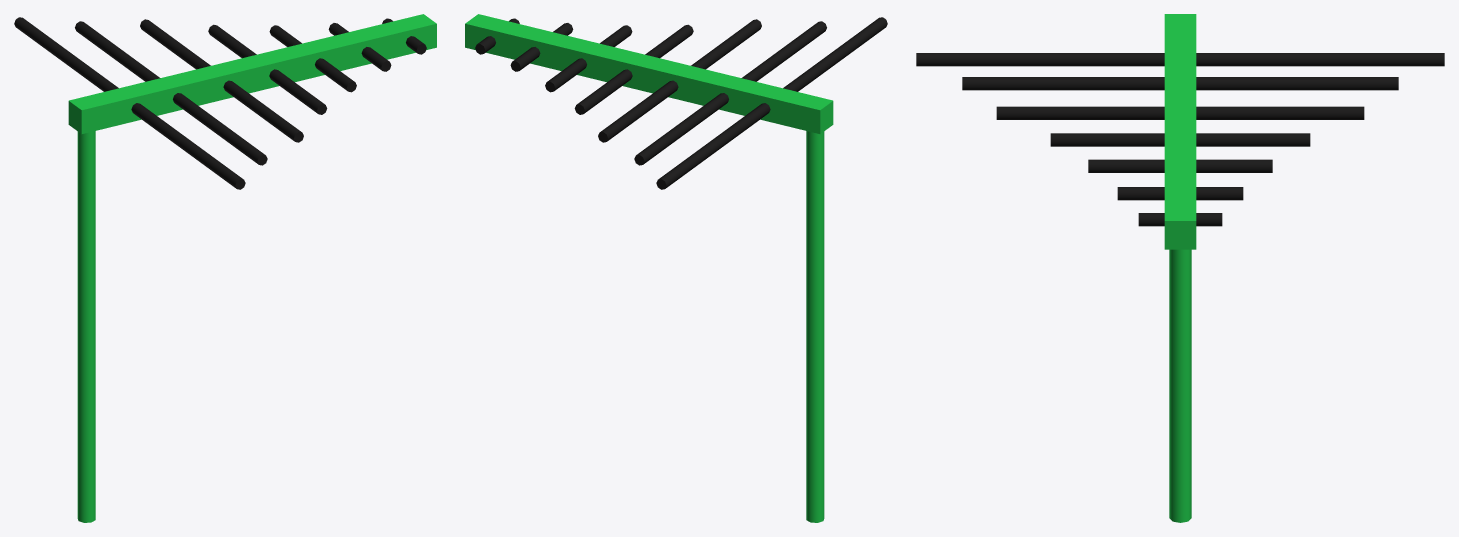
Rendered from Antenna.fbx.
The picture shows the model from 3 angles, left to right: view 1: azimuth 30°, elevation 25°; view 2: azimuth 150°, elevation 25°; view 3: azimuth 270°, elevation 25°; orthographic projection. The views are drawn at different scales.
Visible parts, largest first — view 1: Antenna; view 2: Antenna; view 3: Antenna.
Part boxes in pixels (<box>): Antenna: <box>14,14,436,522</box>; Antenna: <box>465,14,887,522</box>; Antenna: <box>916,14,1444,522</box>.
Bounding box in the file's own units: 73.77 × 82.69 × 79.6.
